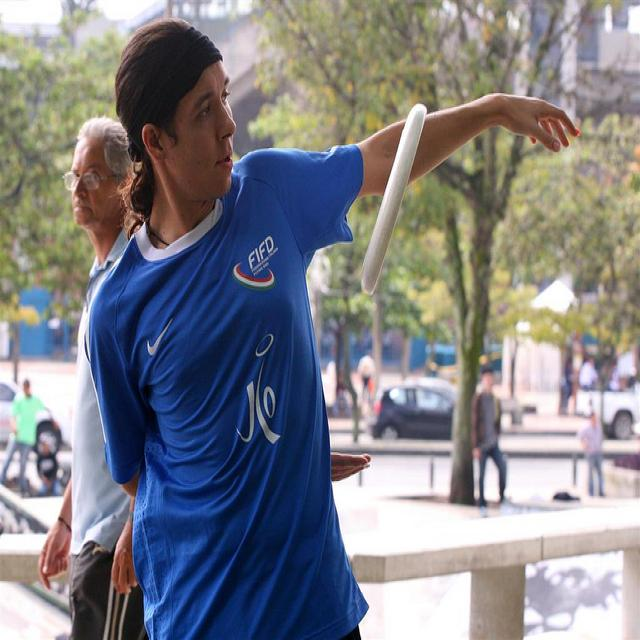Vehicle: (367, 375, 461, 441), (3, 383, 65, 453), (576, 386, 640, 441)
